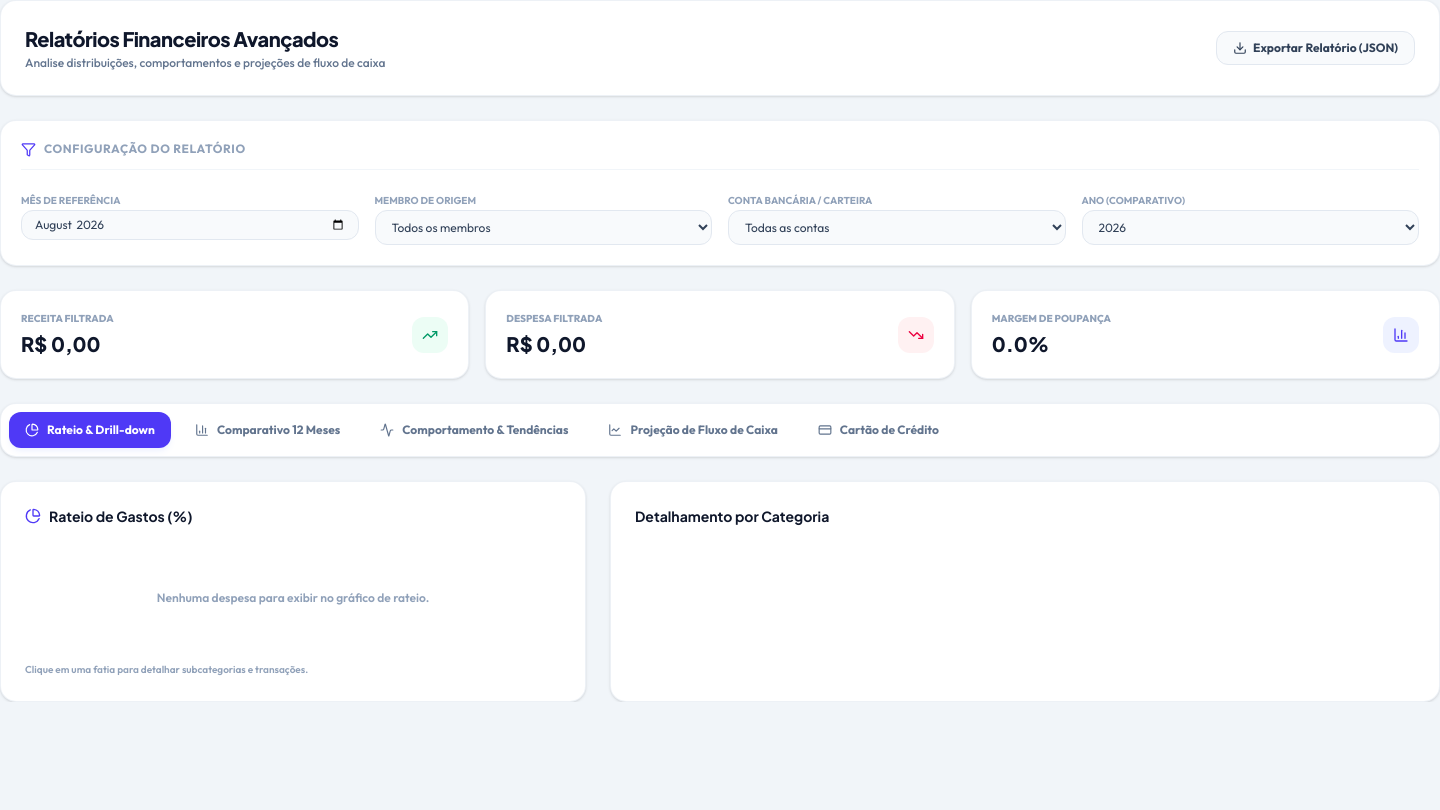
Test: Reports › mostra estado vazio no cartão sem faturas
Step 1. Click the button "Cartão de Crédito" → (878,430), box [802,412,955,448]
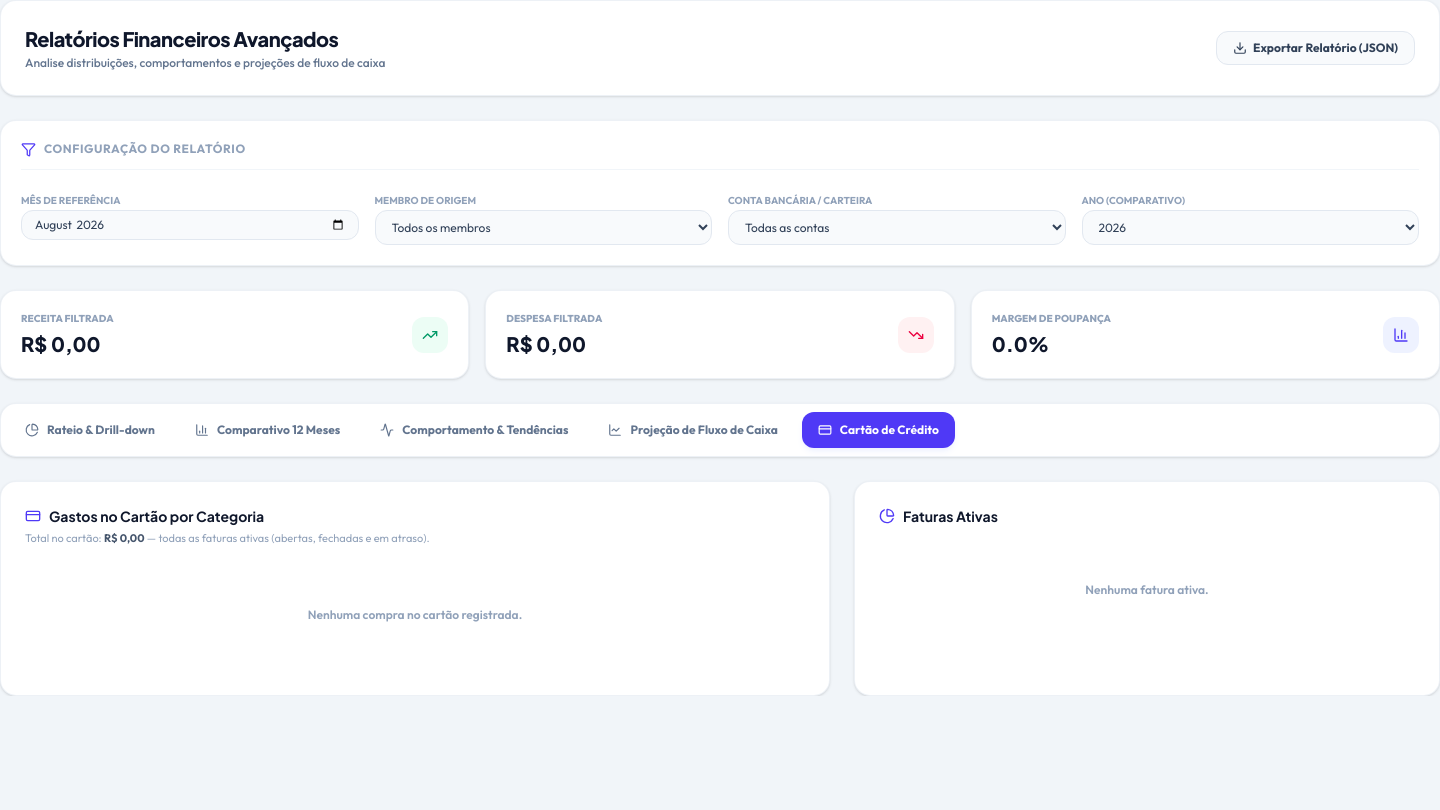
expect the text "Nenhuma fatura ativa." is shown: met, box [1085,582,1209,597]
